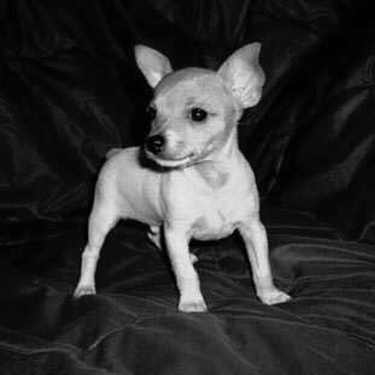dog: (61, 21, 302, 321)
